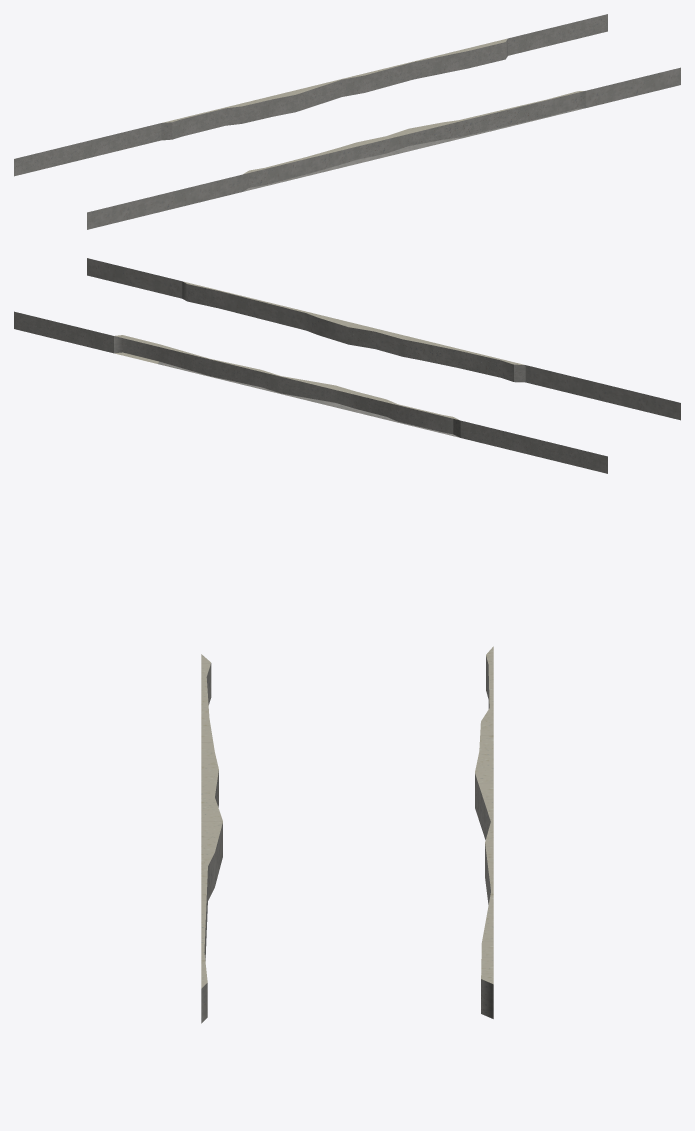
File: StartingHallwayBrokenFloor.fbx
3 renders of one model, top to bottom at view 1: azimuth 30°, elevation 25°; view 2: azimuth 150°, elevation 25°; view 3: azimuth 270°, elevation 25°, orthographic. The views are drawn at different scales.
Visible parts, largest first — view 1: Floor_1:polySurface26, Floor_1:polySurface27; view 2: Floor_1:polySurface26, Floor_1:polySurface27; view 3: Floor_1:polySurface26, Floor_1:polySurface27.
Boxes of the visible parts, x1,y1,x2,y2 form: Floor_1:polySurface26: (87,67,680,229); Floor_1:polySurface27: (14,14,607,176); Floor_1:polySurface26: (87,258,680,420); Floor_1:polySurface27: (14,311,607,473); Floor_1:polySurface26: (201,654,222,1023); Floor_1:polySurface27: (475,646,493,1018).
Bounding box in the file's own units: 1876 × 52.68 × 400.
1 material, 1 textured.
